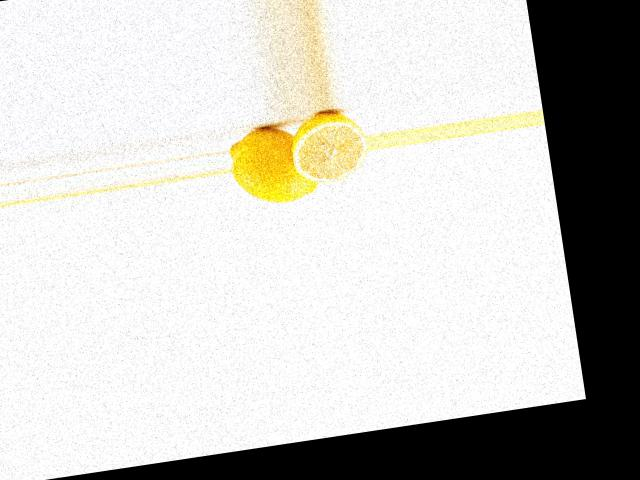lemon: (228, 116, 322, 211)
